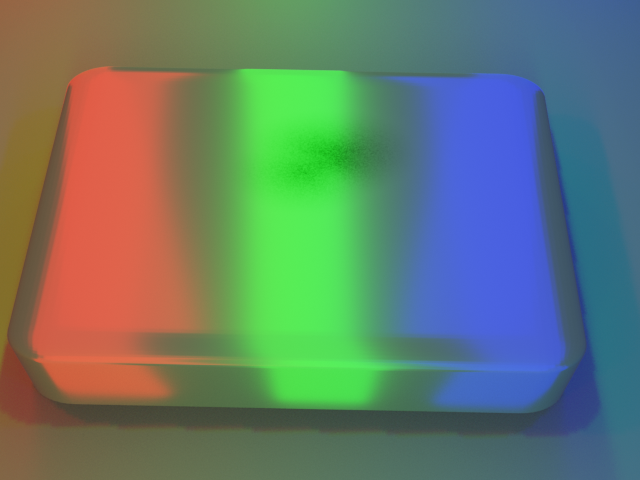stain: (196, 86, 445, 221)
